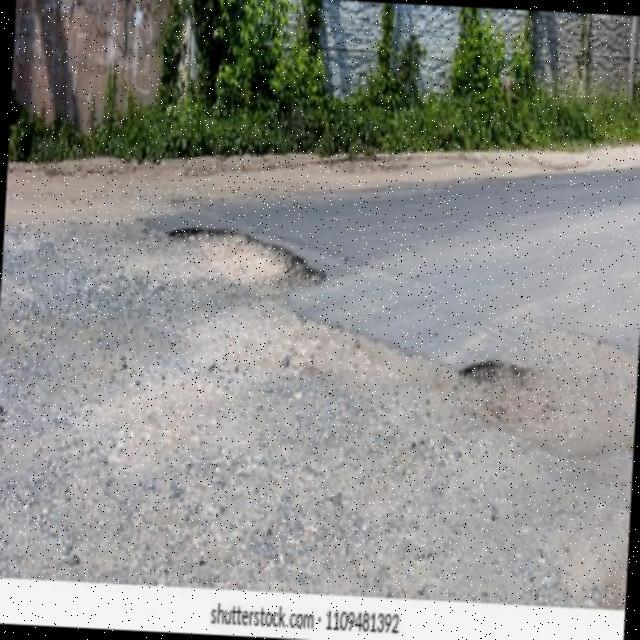Pothole: (454, 332, 638, 478), (165, 227, 324, 282)
